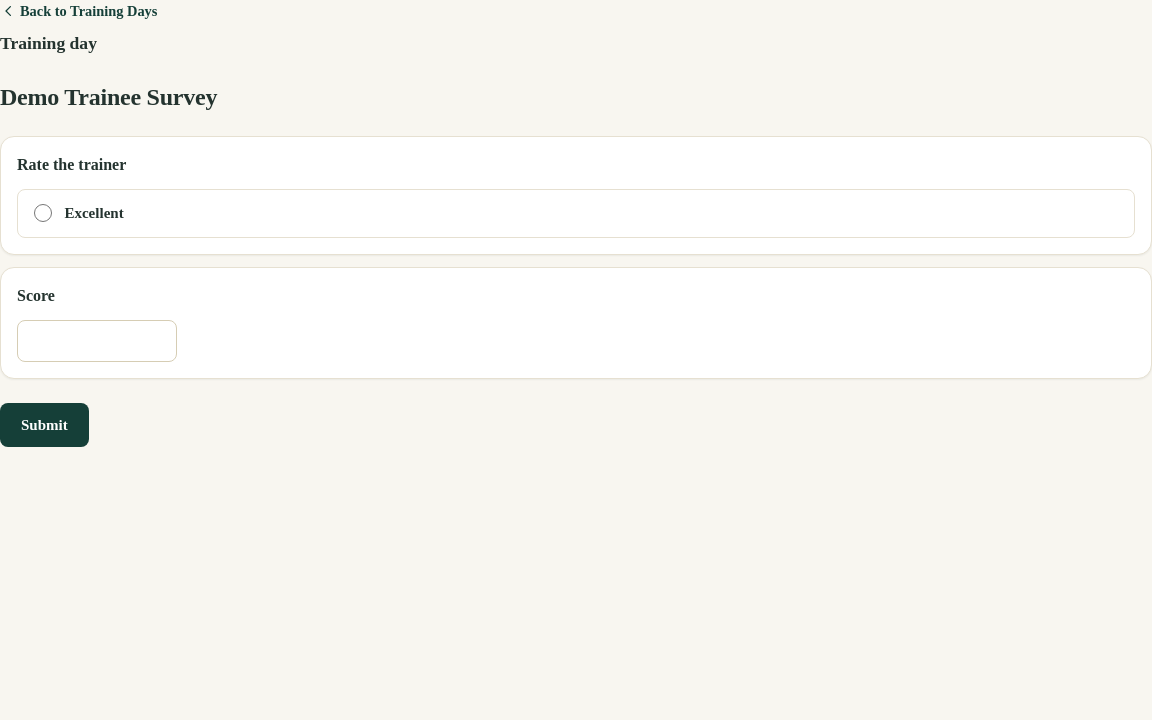
Test: Trainee survey submit error mapping › surfaces BAD_REQUEST (400) with the server message (no request id), keeping the form
Expected: the text "Excellent" is shown, [17,189,1135,238]
Click the radio button labelled "Excellent" at (43, 213), box [34,204,52,222]
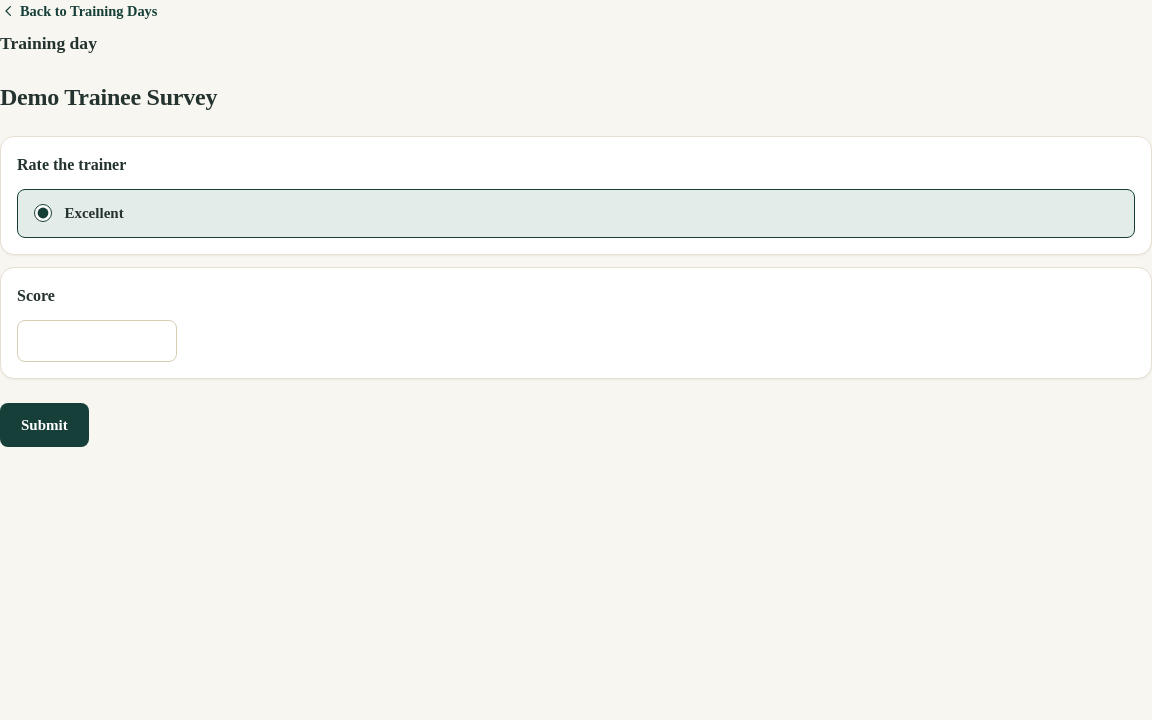
Click the button "Submit" at (44, 425), box [0,403,89,447]
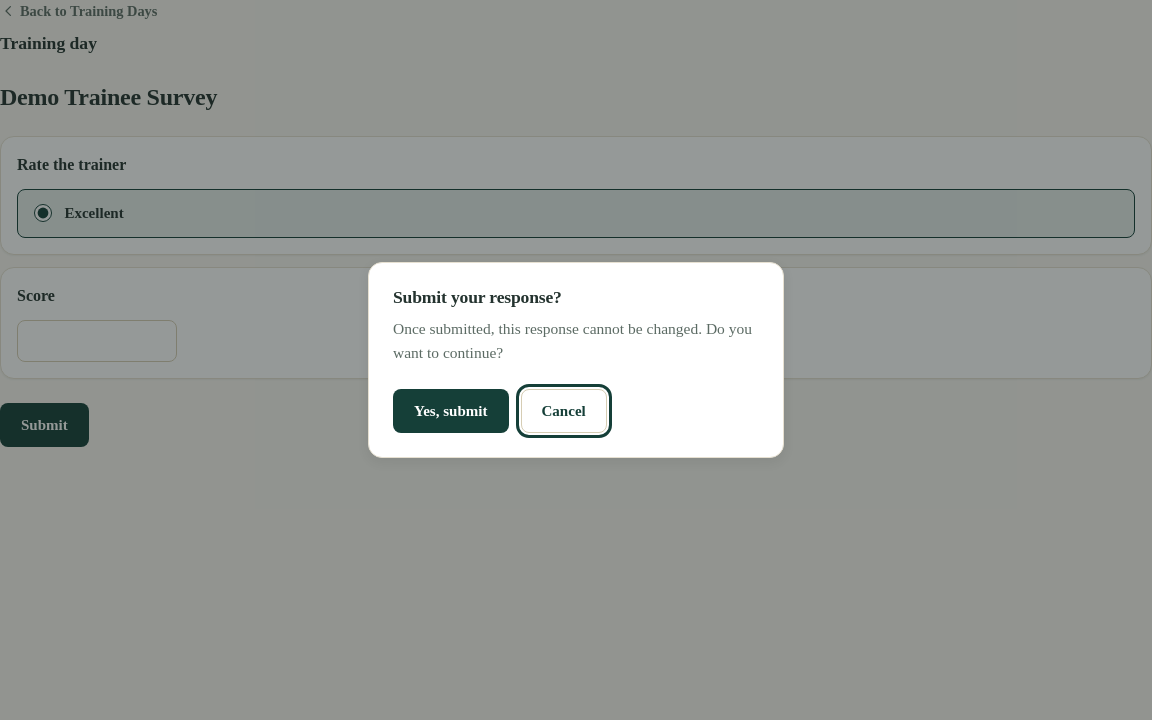
Click the button "Yes, submit" at (451, 411), box [393,389,508,433]
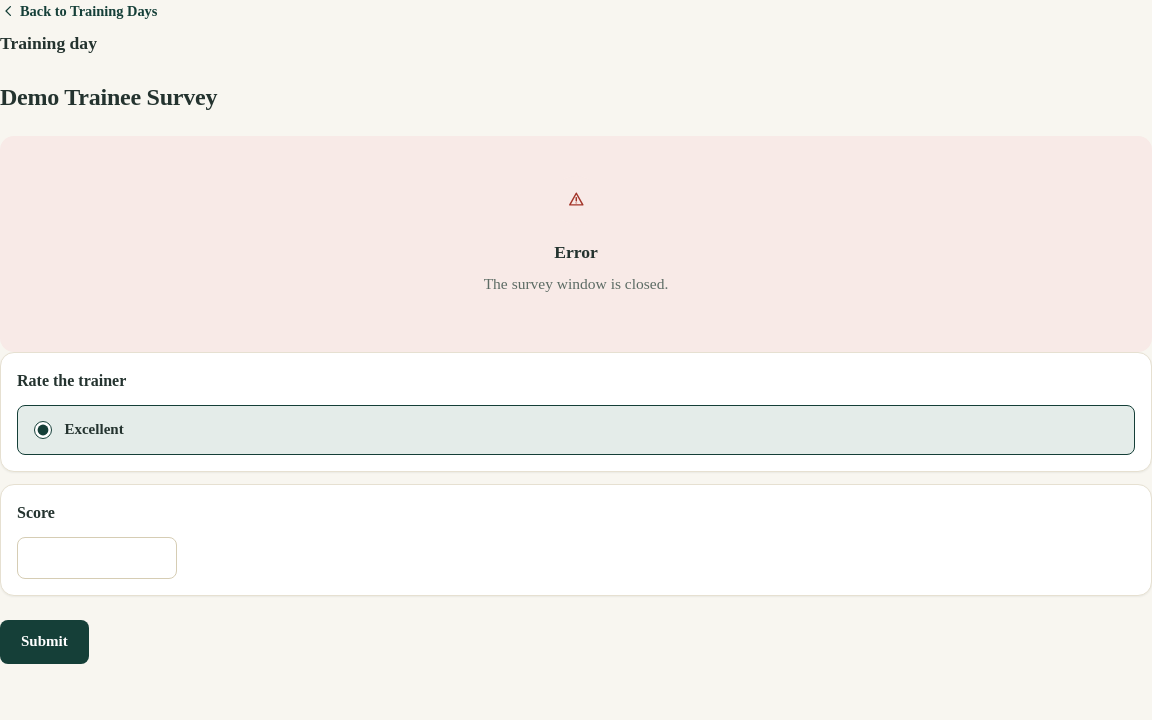
Expected: the button "Submit" is enabled, [0,620,89,664]
Expected: the text "The survey window is closed." is shown, [484,275,668,292]
Expected: the heading "Error" is shown, [554,242,598,262]
